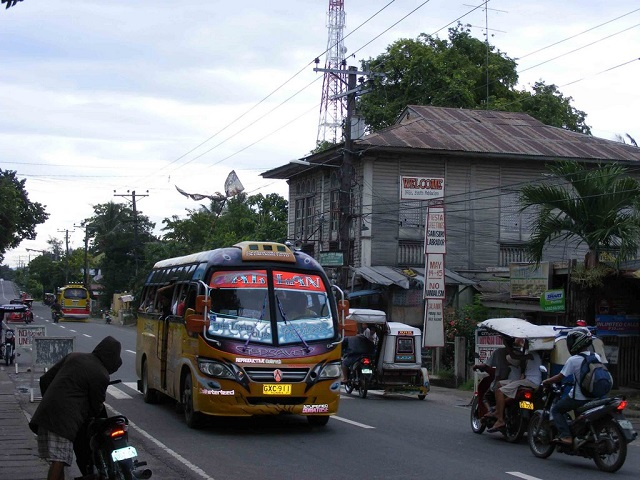bike: (71, 380, 150, 480), (533, 385, 628, 468), (471, 363, 531, 440), (343, 358, 372, 398), (5, 328, 16, 362)
bus: (140, 242, 340, 429), (60, 283, 90, 320)
person: (29, 337, 123, 480), (555, 329, 597, 433), (500, 348, 545, 409), (487, 335, 515, 406)
pole: (338, 64, 358, 278)
